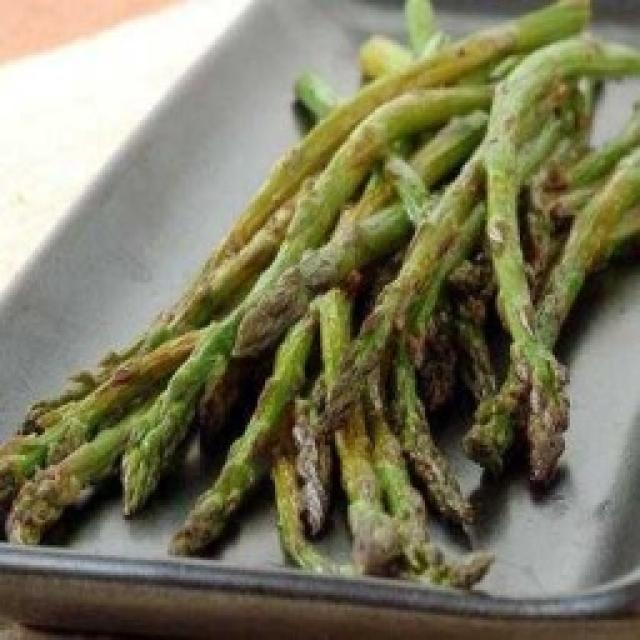Asparagus spear: (478, 83, 548, 365), (255, 225, 355, 413), (383, 192, 448, 425)
